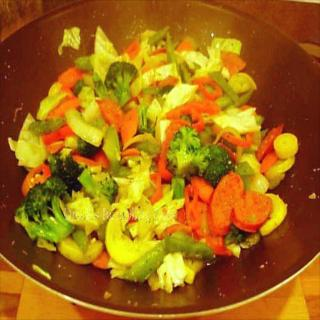Broccoli: (13, 175, 75, 245), (166, 125, 212, 176), (104, 58, 138, 106)
